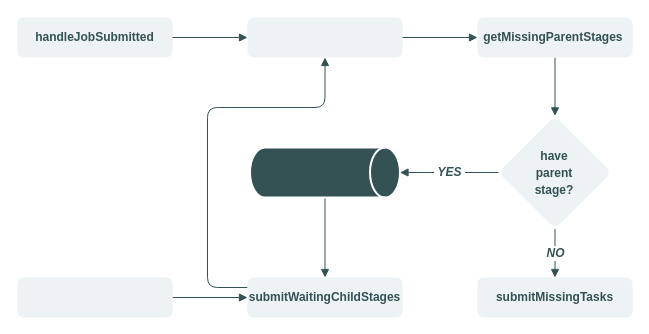
Image size: 649x334. Some labels were removed from this diagram. The shapes that lost their labels are listed below. From the top down, each one's centre as x and y in pixels, then its label:
(x=324, y=37): submitStage
(x=324, y=172): waiting stages
(x=94, y=297): handleTaskCompletion
